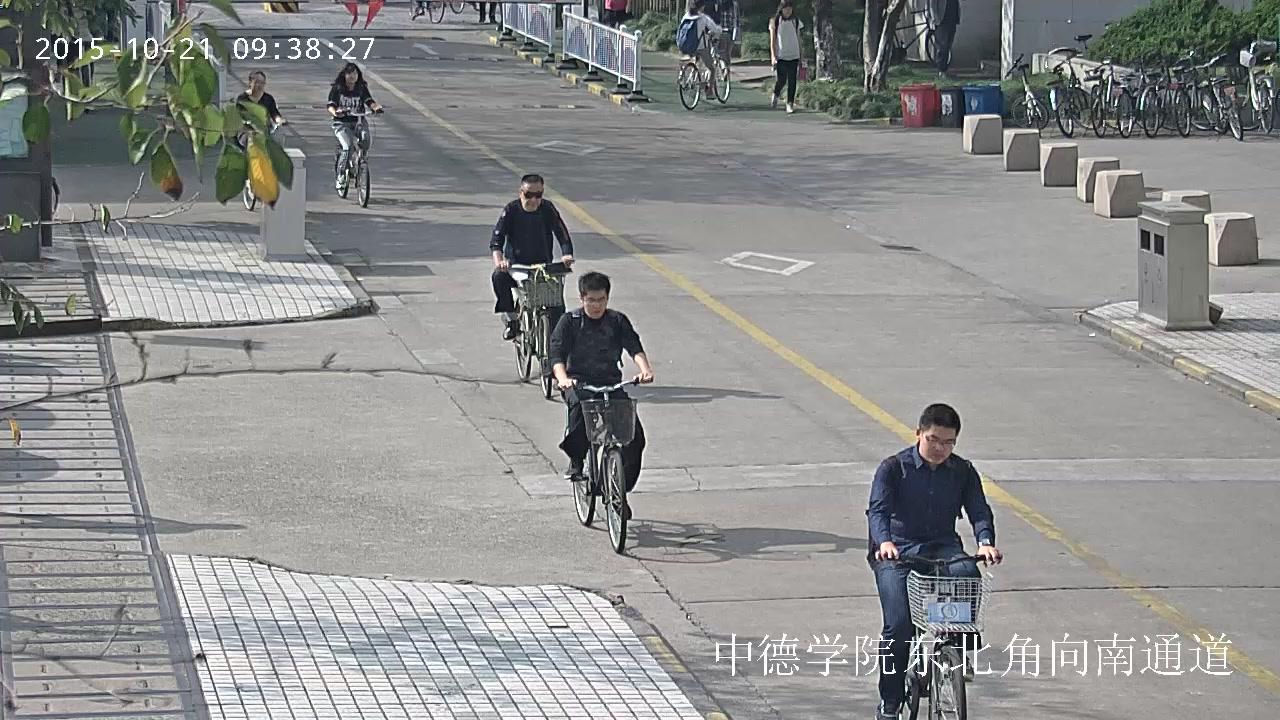face: (921, 424, 956, 464), (584, 289, 606, 319), (522, 183, 543, 211), (251, 75, 265, 93), (345, 69, 357, 84), (782, 7, 791, 17)
